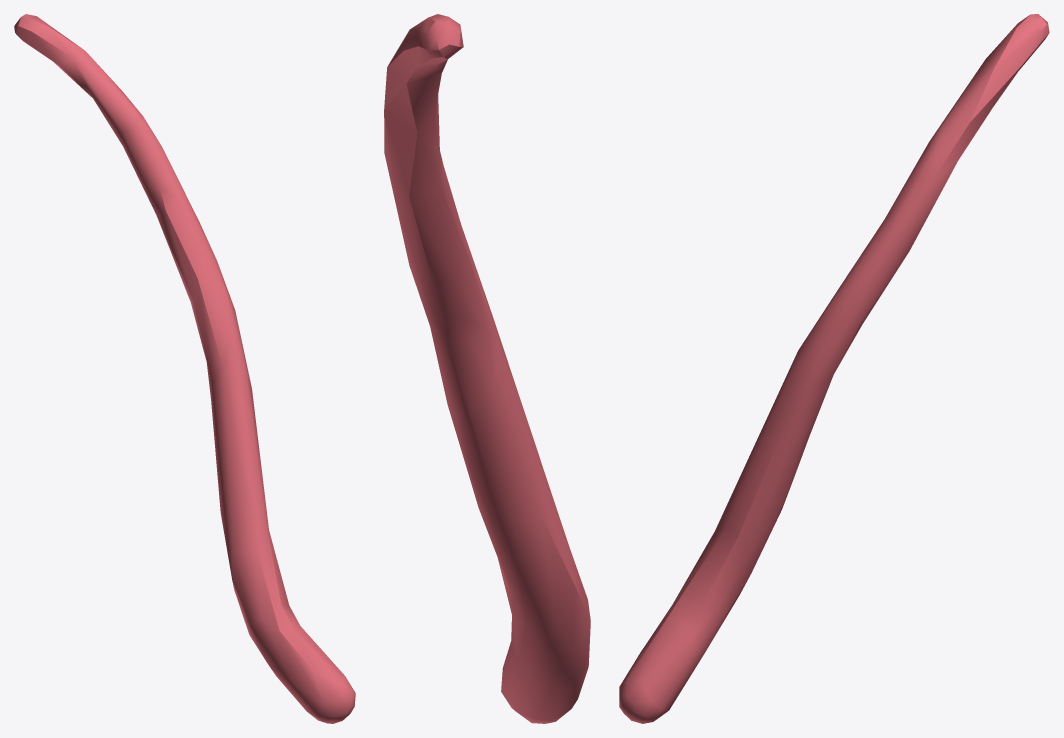
The model's file is fma86340_fj2042.glb.
The picture shows the model from 3 angles, left to right: view 1: azimuth 30°, elevation 25°; view 2: azimuth 150°, elevation 25°; view 3: azimuth 270°, elevation 25°; orthographic projection. The views are drawn at different scales.
Parts seen in each view (by area): view 1: FMA86340_FJ2042; view 2: FMA86340_FJ2042; view 3: FMA86340_FJ2042.
Part boxes in pixels (x1,y1,x2,y2): FMA86340_FJ2042: [14, 14, 355, 723]; FMA86340_FJ2042: [384, 14, 590, 723]; FMA86340_FJ2042: [619, 14, 1049, 723].
Size of the model in its own units: 0.0115 by 0.0429 by 0.026.
